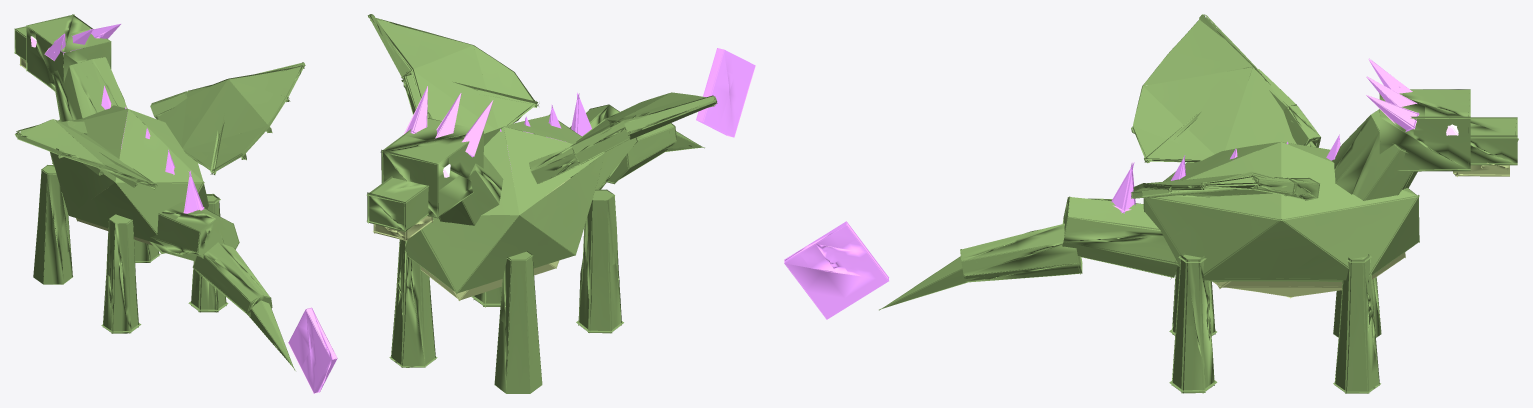
The model's file is dragon_venom.glb.
The picture shows the model from 3 angles, left to right: view 1: azimuth 30°, elevation 25°; view 2: azimuth 150°, elevation 25°; view 3: azimuth 270°, elevation 25°; orthographic projection. The views are drawn at different scales.
Parts seen in each view (by area): view 1: DragonBody; view 2: DragonBody; view 3: DragonBody.
Part boxes in pixels (x1,y1,x2,y2): DragonBody: (14,14,337,393); DragonBody: (366,14,755,393); DragonBody: (784,14,1518,393).
Size of the model in its own units: 2.45 by 1.92 by 4.46.
